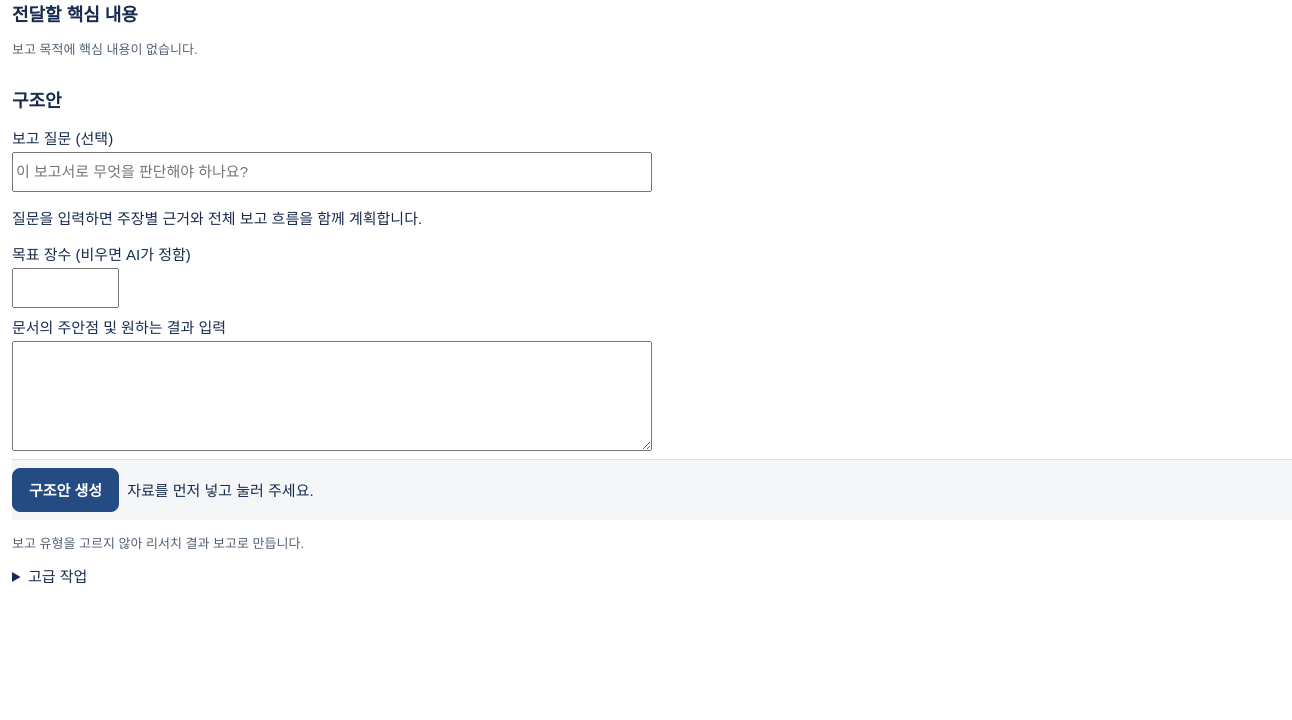
Scenario: 핵심 답변 연결 실패는 입력 오류로 안내하지 않고 다시 생성 경로를 제공한다
In the text box labelled "문서의 주안점 및 원하는 결과 입력": (332, 396) [12,341,652,451], type "다음 주 계획 강조"
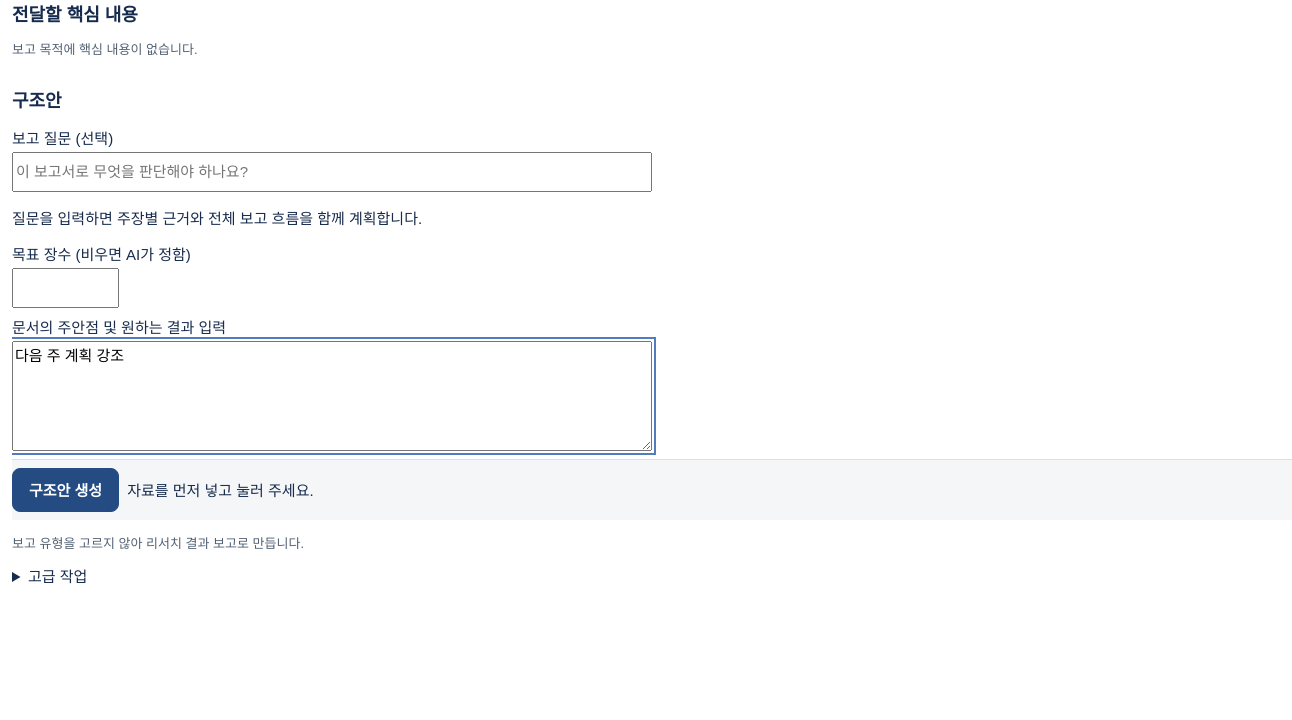
Click the button "구조안 생성": (66, 490) [12,468,119,512]
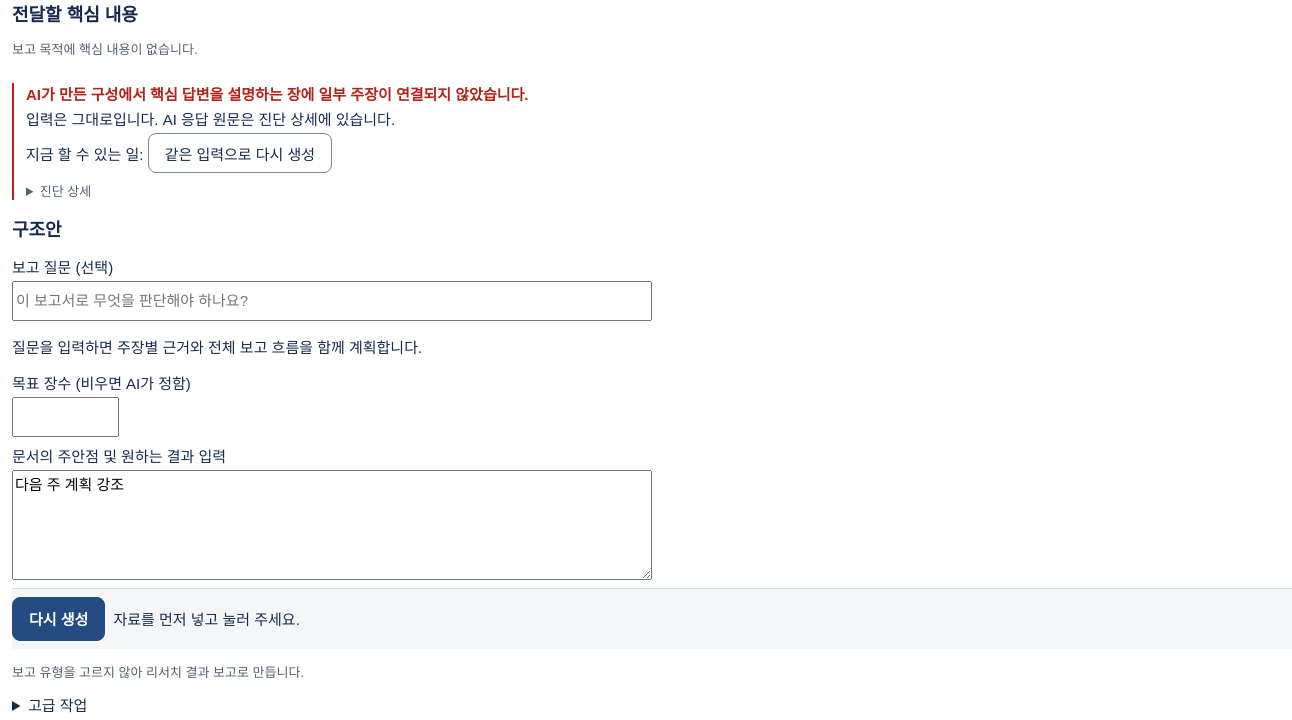
expect the button "다시 생성" is enabled: met, box [12,597,105,641]
expect the text "AI가 만든 구성에서 핵심 답변을 설명하는 장에 일부 주장이 연결되지 않았습니다." is shown: met, box [26,86,528,103]
